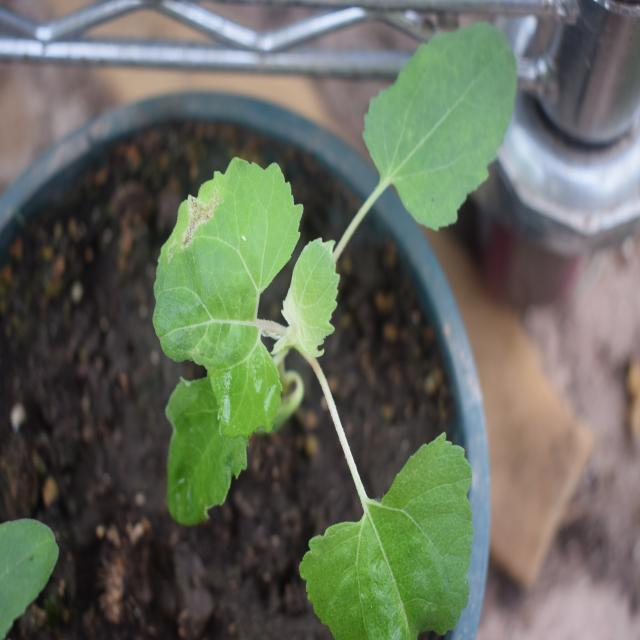cocklebur: (154, 29, 482, 564)
